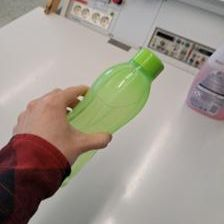bottle: (58, 49, 166, 192)
